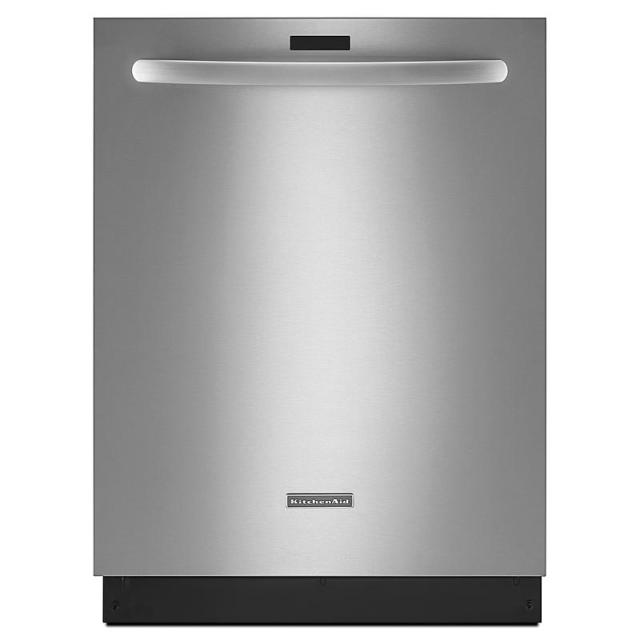dishwasher: (93, 19, 549, 627)
